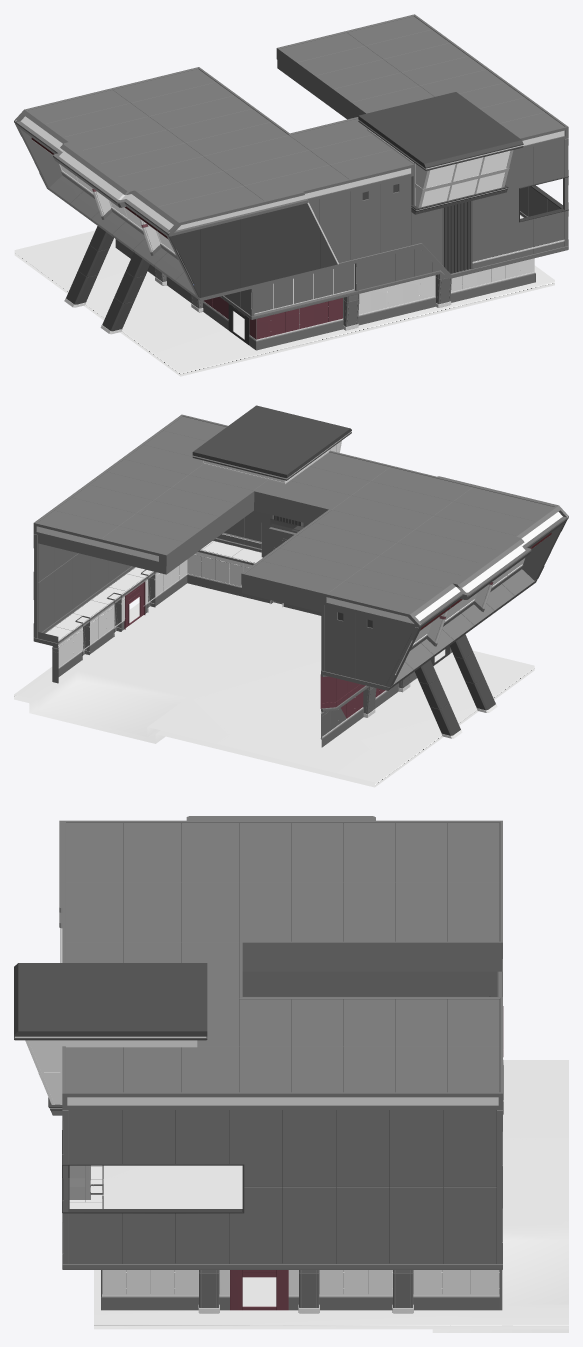
The picture shows the model from 3 angles, top to bottom: view 1: azimuth 30°, elevation 25°; view 2: azimuth 150°, elevation 25°; view 3: azimuth 270°, elevation 25°; orthographic projection. The views are drawn at different scales.
Visible parts, largest first — view 1: SM_H_Building_FutureTech_CtControl_01_ExterWall_02; view 2: SM_H_Building_FutureTech_CtControl_01_ExterWall_02; view 3: SM_H_Building_FutureTech_CtControl_01_ExterWall_02.
Part boxes in pixels (x1,y1,x2,y2): SM_H_Building_FutureTech_CtControl_01_ExterWall_02: (14,14,568,376); SM_H_Building_FutureTech_CtControl_01_ExterWall_02: (14,405,568,787); SM_H_Building_FutureTech_CtControl_01_ExterWall_02: (14,816,568,1332).
Bounding box in the file's own units: 1915 × 2326 × 1033.
